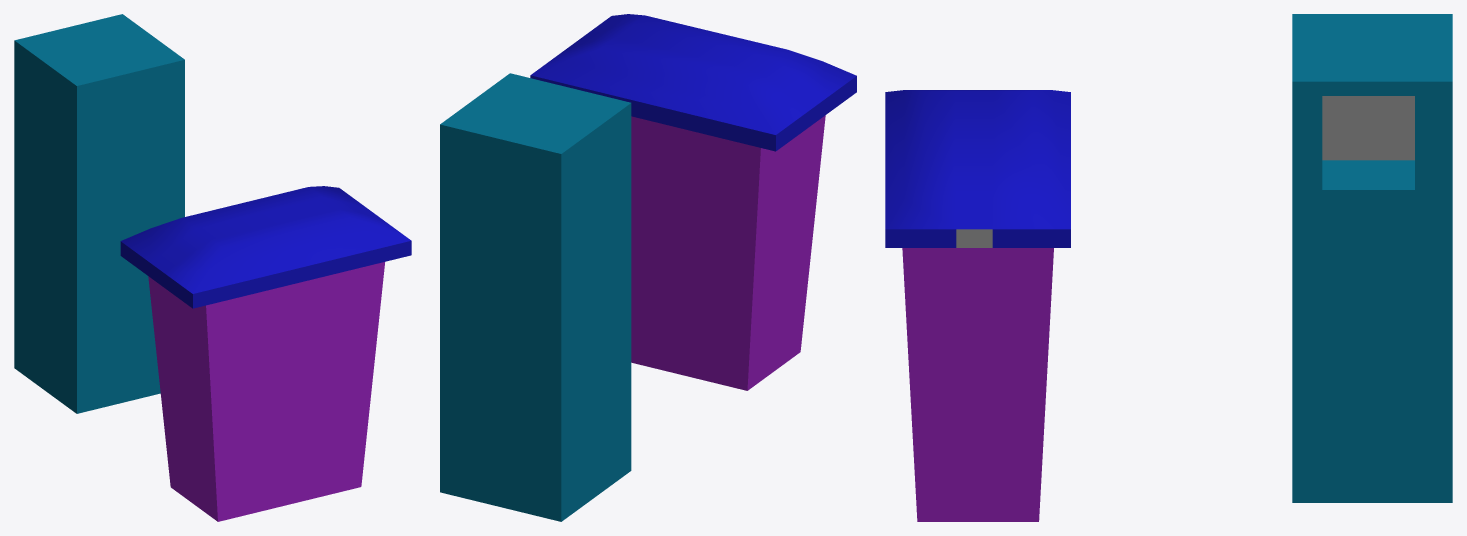
The model's file is Basureros.FBX.
3 renders of one model, left to right at view 1: azimuth 30°, elevation 25°; view 2: azimuth 150°, elevation 25°; view 3: azimuth 270°, elevation 25°, orthographic. The views are drawn at different scales.
Visible parts, largest first — view 1: Box001, Box002; view 2: Box002, Box001; view 3: Box002, Box001.
Part boxes in pixels (<box>): Box001: <box>120,186,411,521</box>; Box002: <box>14,14,184,413</box>; Box002: <box>440,73,631,521</box>; Box001: <box>530,14,856,390</box>; Box002: <box>1292,14,1452,502</box>; Box001: <box>885,90,1070,521</box>.
Bounding box in the file's own units: 85.89 × 123 × 150.
